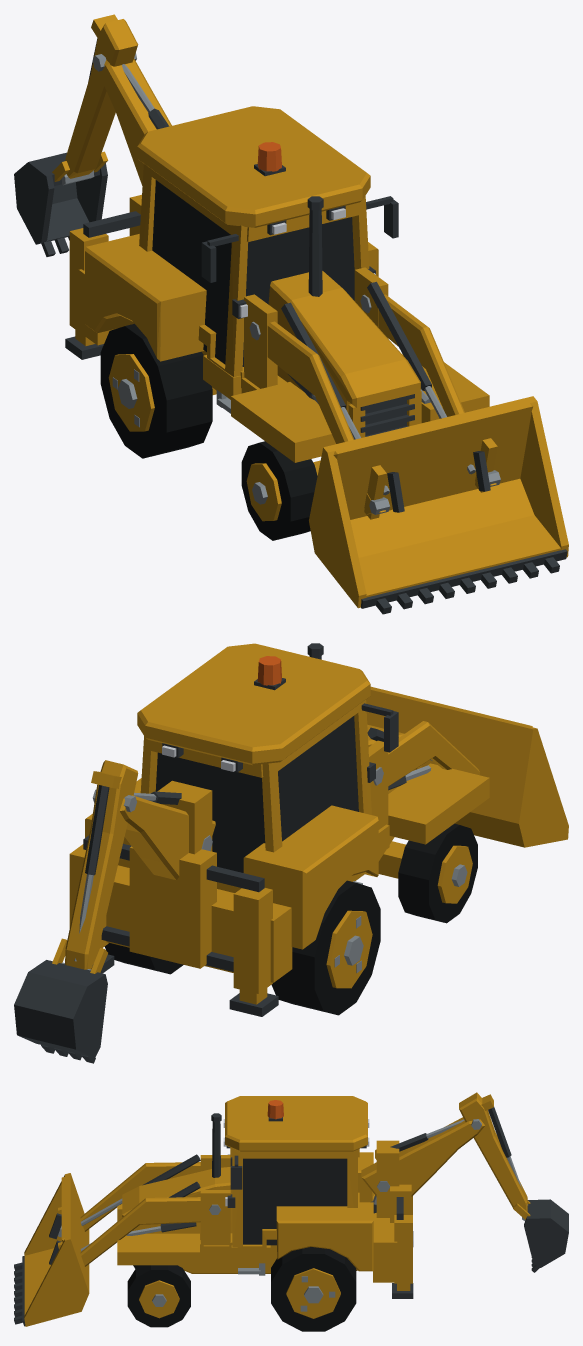
File: backhoe-loader-66dccb.glb
3 views of the same model, one above another, from view 1: azimuth 30°, elevation 25°; view 2: azimuth 150°, elevation 25°; view 3: azimuth 270°, elevation 25° (orthographic). The views are drawn at different scales.
Visible parts, largest first — view 1: machine, loader-bucket-shell, wheel-mesh-r-r, loader-arm, backhoe-bucket, wheel-mesh-r-f, dipper-member, boom-member; view 2: machine, loader-bucket-shell, wheel-mesh-r-r, backhoe-bucket, dipper-member, wheel-mesh-r-f, boom-member, loader-arm, kingpost, wheel-mesh-l-r, stab-r-leg; view 3: machine, loader-bucket-shell, wheel-mesh-l-r, loader-arm, boom-member, wheel-mesh-l-f, dipper-member, backhoe-bucket, kingpost, stab-l-leg.
Boxes of the visible parts, <box> form: machine: <box>69,106,489,475</box>; loader-bucket-shell: <box>309,396,568,614</box>; wheel-mesh-r-r: <box>100,323,212,458</box>; loader-arm: <box>267,281,500,514</box>; backhoe-bucket: <box>14,151,108,256</box>; wheel-mesh-r-f: <box>241,441,317,540</box>; dipper-member: <box>61,14,138,185</box>; boom-member: <box>92,52,171,185</box>; machine: <box>69,643,489,993</box>; loader-bucket-shell: <box>366,686,568,847</box>; wheel-mesh-r-r: <box>271,880,380,1015</box>; backhoe-bucket: <box>14,938,107,1063</box>; dipper-member: <box>62,760,138,970</box>; wheel-mesh-r-f: <box>398,823,477,923</box>; boom-member: <box>92,789,215,880</box>; loader-arm: <box>367,721,479,790</box>; kingpost: <box>157,780,212,854</box>; wheel-mesh-l-r: <box>104,943,183,974</box>; stab-r-leg: <box>229,988,278,1016</box>; machine: <box>117,1096,412,1283</box>; loader-bucket-shell: <box>14,1173,89,1326</box>; wheel-mesh-l-r: <box>271,1247,356,1331</box>; loader-arm: <box>58,1154,200,1266</box>; boom-member: <box>361,1117,485,1196</box>; wheel-mesh-l-f: <box>127,1265,190,1327</box>; dipper-member: <box>459,1092,527,1220</box>; backhoe-bucket: <box>513,1199,568,1272</box>; kingpost: <box>371,1140,399,1217</box>; stab-l-leg: <box>392,1283,413,1298</box>.
Bounding box in the file's own units: 2.42 × 3.13 × 7.77.
